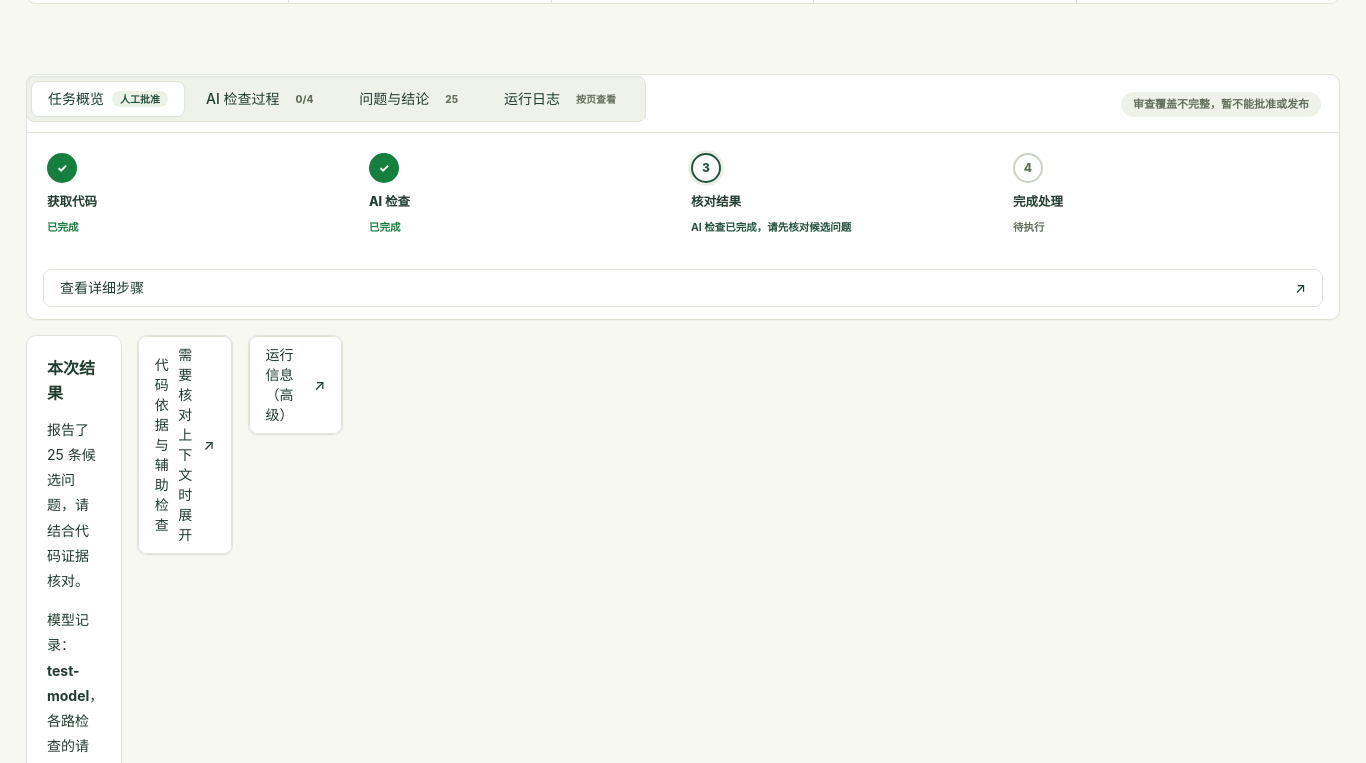
Test: 覆盖缺口显示具体文件和恢复入口，不再提供批准或发布按钮
(page scrolled)
Click the button "运行信息（高级） ↗". click: (295, 385)
box: [248,336,342,434]
(page scrolled)
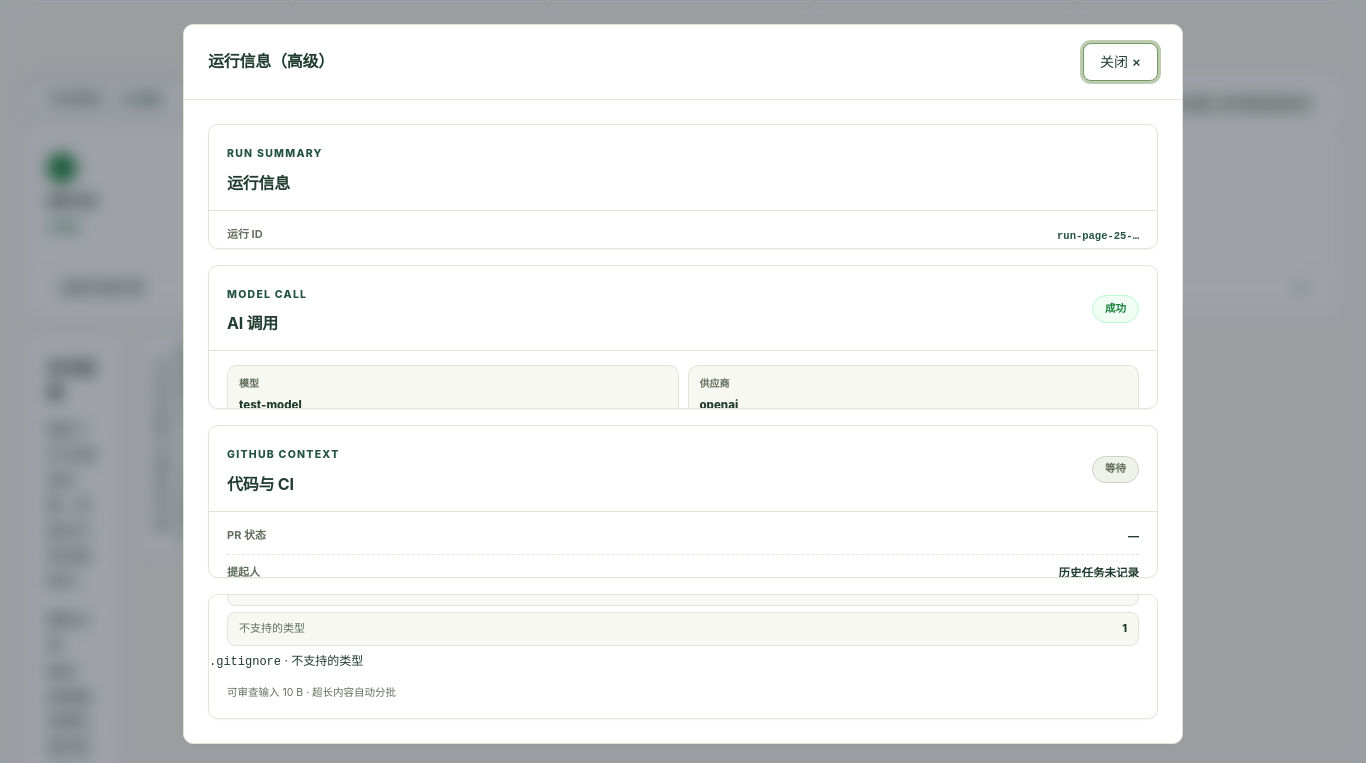
expect the text ".gitignore" is shown: met, box [209,655,281,669]
